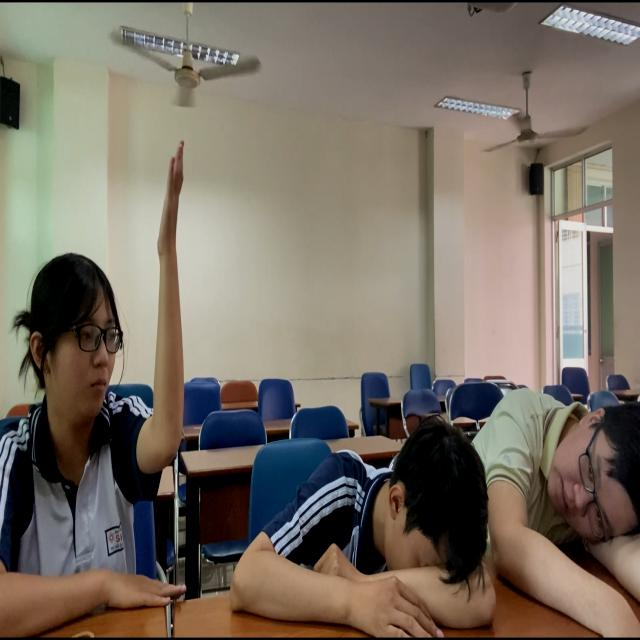raise_hand: (1, 134, 203, 640)
sleep: (219, 418, 496, 631), (466, 371, 640, 626)
